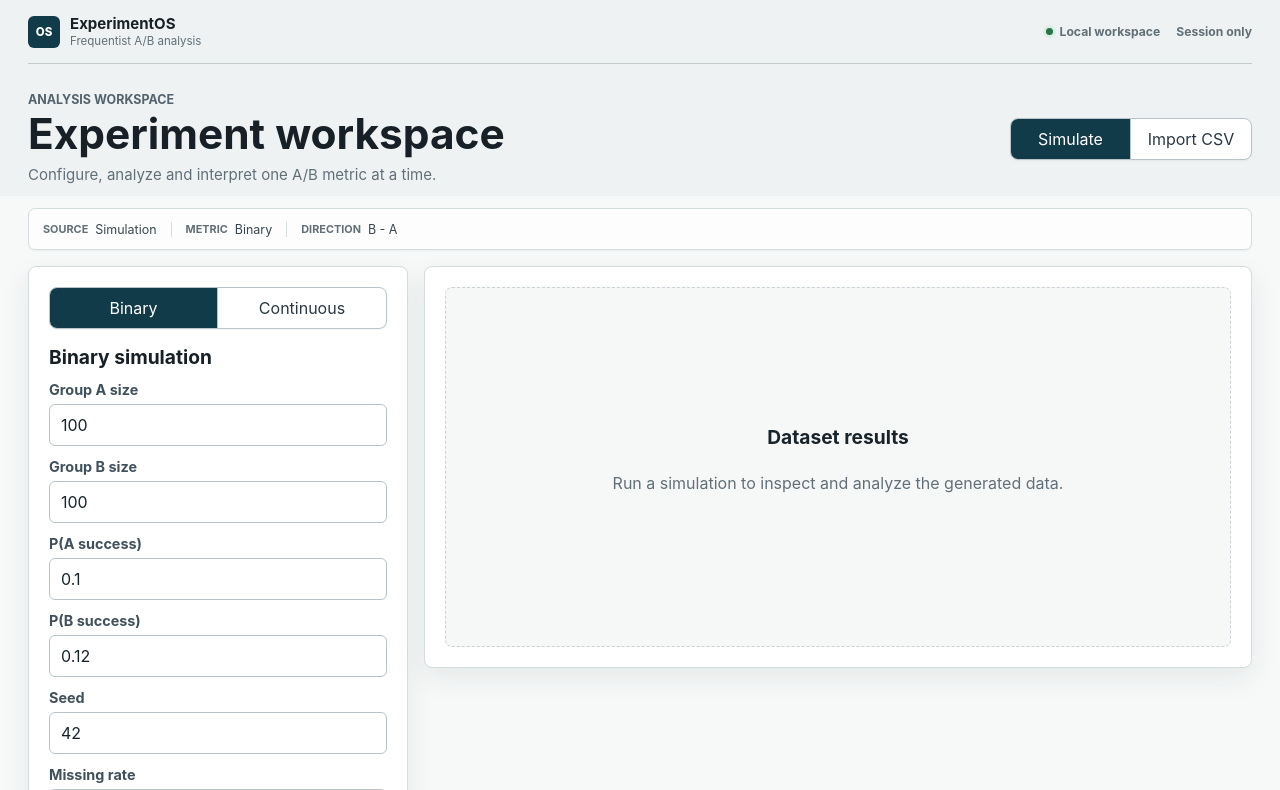
Test: App › switches to the continuous form
This screenshot has width=1280, height=790.
Click the button "Continuous" at (302, 308), box [218,288,386,328]
(page scrolled)
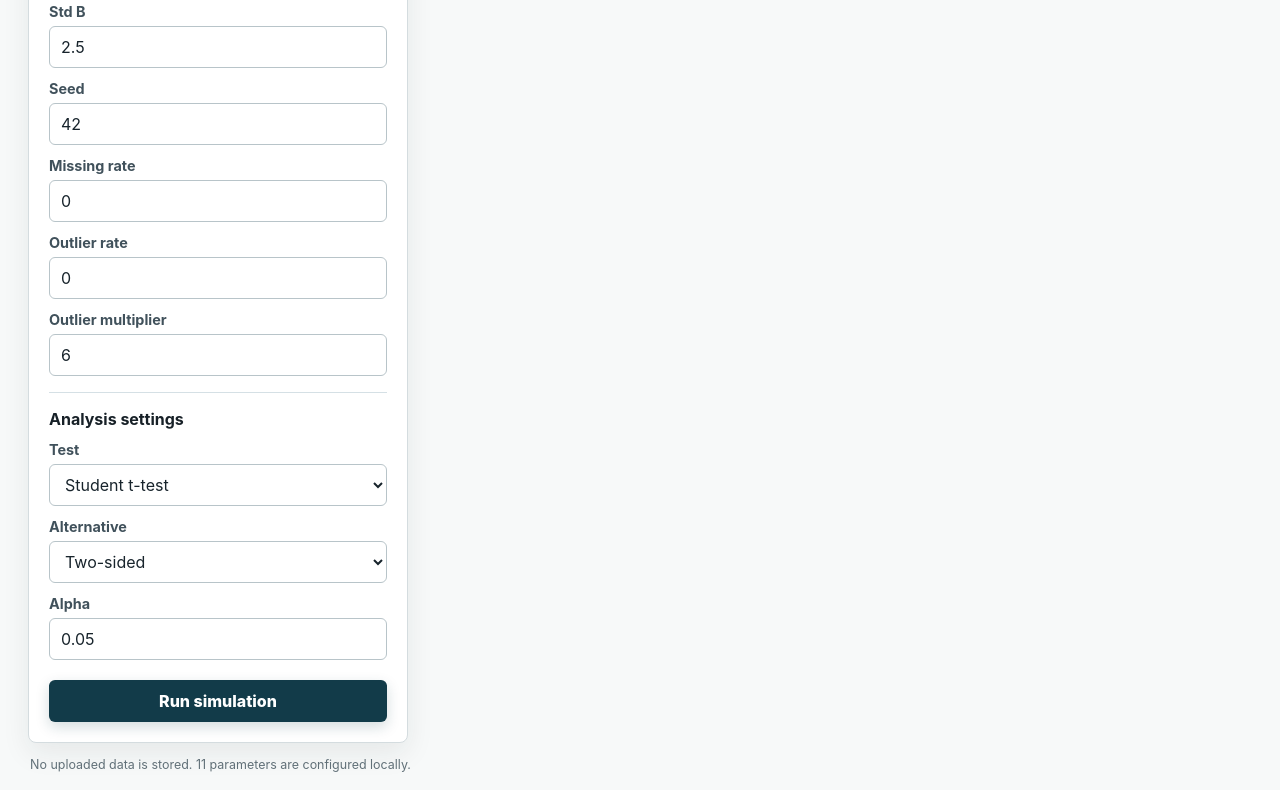
Check: the dropdown labelled "Test" shows "Student t-test", box [49,464,387,506]
